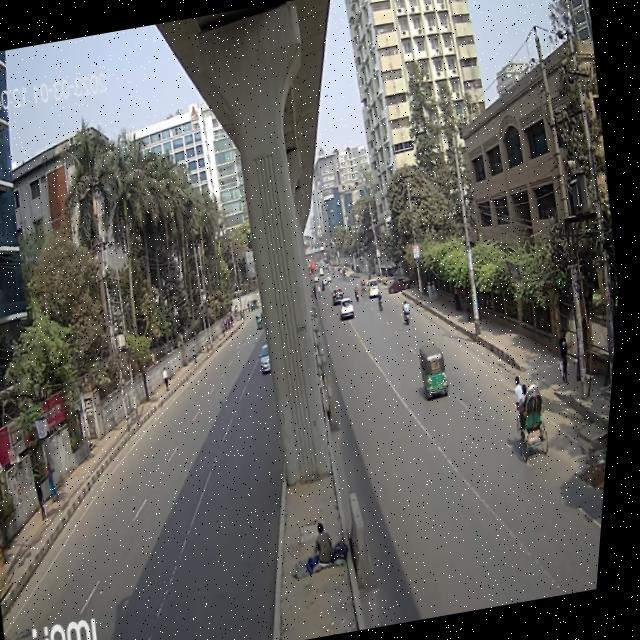cng: (417, 336, 460, 404)
rikshaw: (504, 364, 565, 464)
